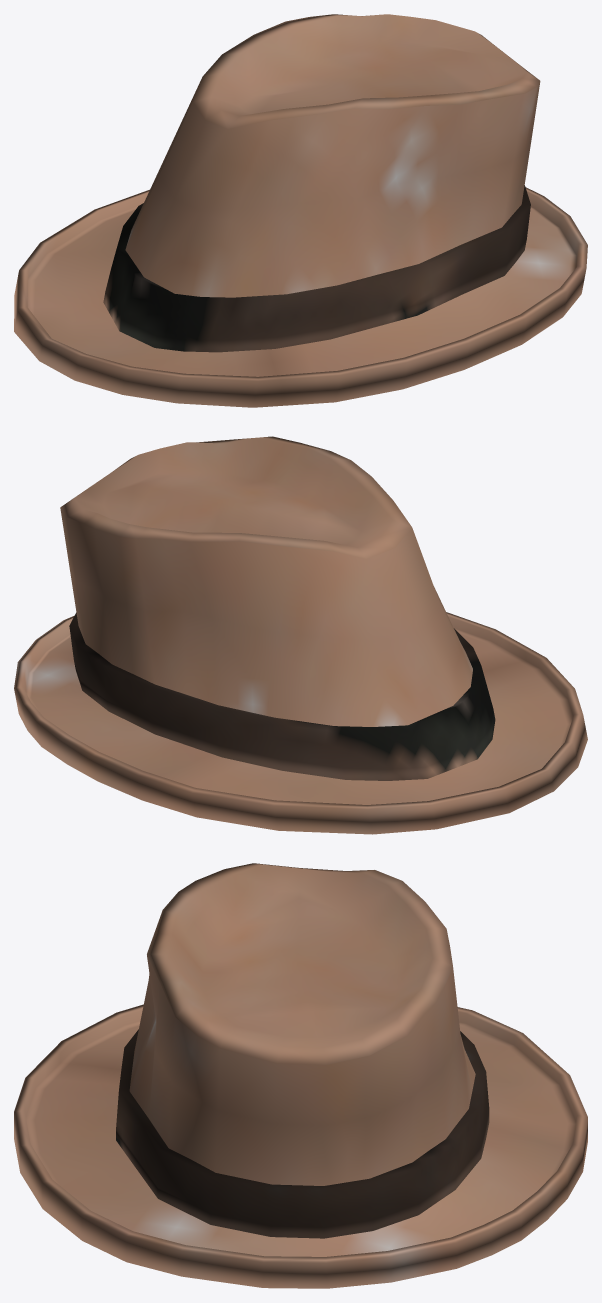
File: Hat_BTjam.fbx
3 views of the same model, one above another, from view 1: azimuth 30°, elevation 25°; view 2: azimuth 150°, elevation 25°; view 3: azimuth 270°, elevation 25° (orthographic). The views are drawn at different scales.
Visible parts, largest first — view 1: Hat; view 2: Hat; view 3: Hat.
Boxes of the visible parts, box(x1,y1,x2,y2) form: Hat: box(14, 14, 587, 407); Hat: box(14, 436, 587, 834); Hat: box(14, 863, 587, 1288).
Size of the model in its own units: 136 by 58.68 by 113.
